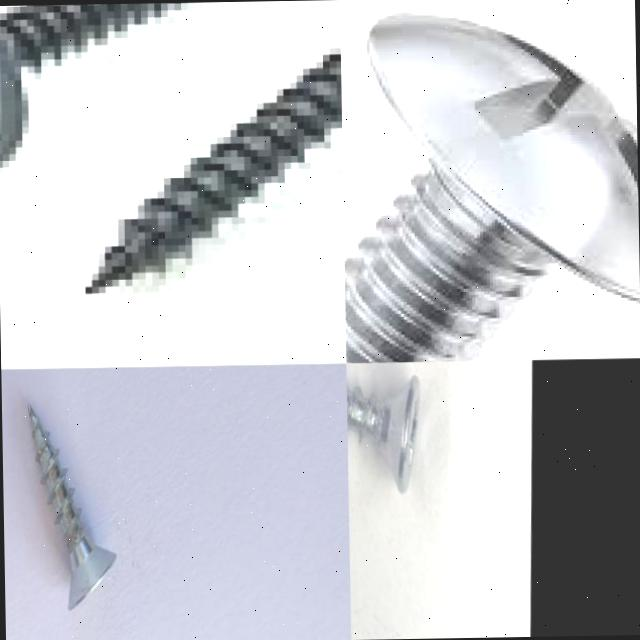Screw: (344, 12, 640, 363), (85, 47, 342, 293), (0, 2, 194, 169), (28, 403, 116, 609), (346, 376, 420, 492)
